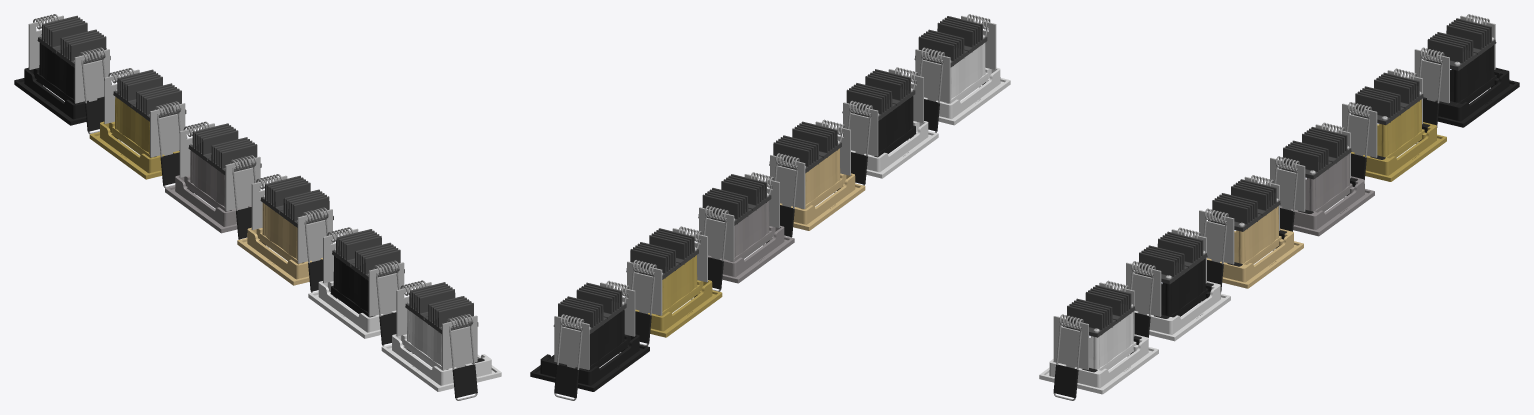
File: NewPixel-honeycomb.glb
The picture shows the model from 3 angles, left to right: view 1: azimuth 30°, elevation 25°; view 2: azimuth 150°, elevation 25°; view 3: azimuth 330°, elevation 25°; orthographic projection.
Parts seen in each view (by area): view 1: 3DGeom-27, 3DGeom-85, 3DGeom-58, 3DGeom-115, 3DGeom-143, 3DGeom-174, 3DGeom-70 (×2), 3DGeom-87, 3DGeom-106 (×2), 3DGeom-33 (×2), 3DGeom-120 (×2), 3DGeom-9 (×2) (+18 smaller); view 2: 3DGeom-115, 3DGeom-85, 3DGeom-143, 3DGeom-174, 3DGeom-27, 3DGeom-58, 3DGeom-106 (×2), 3DGeom-114, 3DGeom-70 (×2), 3DGeom-33 (×2), 3DGeom-9 (×2), 3DGeom-120 (×2) (+18 smaller); view 3: 3DGeom-27, 3DGeom-58, 3DGeom-85, 3DGeom-143, 3DGeom-174, 3DGeom-115, 3DGeom-87, 3DGeom-28, 3DGeom-56, 3DGeom-145, 3DGeom-86, 3DGeom-116 (+14 smaller).
Part boxes in pixels (x1,y1,x2,y2): 3DGeom-27: (188,123,261,174); 3DGeom-85: (405,282,478,333); 3DGeom-58: (113,69,186,121); 3DGeom-115: (37,15,110,67); 3DGeom-143: (332,229,404,280); 3DGeom-174: (260,175,333,227); 3DGeom-70 (×2): (396,282,477,369); 3DGeom-87: (381,334,501,391); 3DGeom-106 (×2): (28,15,109,103); 3DGeom-33 (×2): (104,69,185,157); 3DGeom-120 (×2): (323,228,404,316); 3DGeom-9 (×2): (179,123,260,211); 3DGeom-115: (553,282,626,334); 3DGeom-85: (914,16,987,67); 3DGeom-143: (842,69,915,120); 3DGeom-174: (769,121,841,173); 3DGeom-27: (698,174,771,225); 3DGeom-58: (626,228,698,279); 3DGeom-106 (×2): (554,282,635,369); 3DGeom-114: (530,334,649,391); 3DGeom-70 (×2): (915,16,996,103); 3DGeom-33 (×2): (627,228,707,315); 3DGeom-9 (×2): (699,174,779,261); 3DGeom-120 (×2): (843,69,923,156); 3DGeom-27: (1278,127,1351,179); 3DGeom-58: (1351,72,1423,125); 3DGeom-85: (1062,285,1135,337); 3DGeom-143: (1134,231,1207,284); 3DGeom-174: (1208,179,1280,231); 3DGeom-115: (1423,18,1496,70); 3DGeom-87: (1039,334,1158,394); 3DGeom-28: (1305,153,1354,212); 3DGeom-56: (1377,99,1426,158); 3DGeom-145: (1161,258,1210,317); 3DGeom-86: (1089,312,1138,370); 3DGeom-116: (1450,45,1498,103).
Size of what is drawn, in the model's own units: 0.0526 by 0.059 by 0.5756.
Materials: 21 (3 with a texture image).
